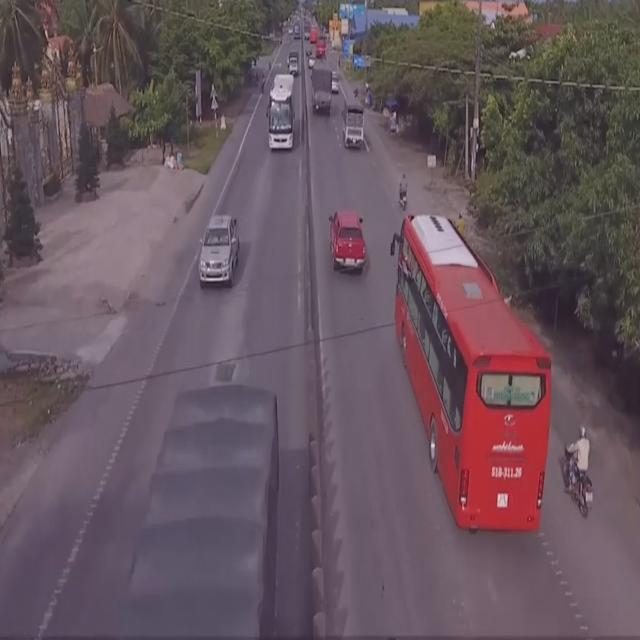bus: (392, 212, 554, 532), (268, 74, 295, 154)
car: (199, 212, 239, 286), (328, 206, 367, 276)
motorbike: (560, 419, 594, 520), (396, 171, 409, 212)
truck: (116, 381, 280, 640), (310, 62, 333, 117), (340, 100, 364, 147)
